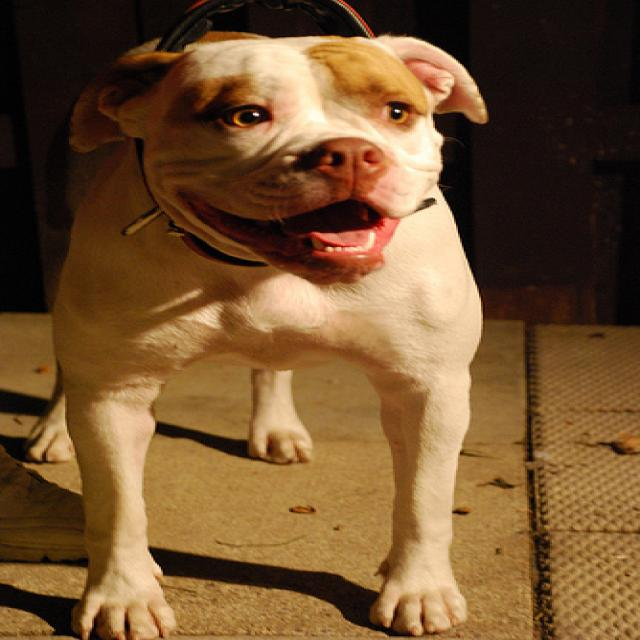dog-american_bulldog: (8, 22, 504, 637)
